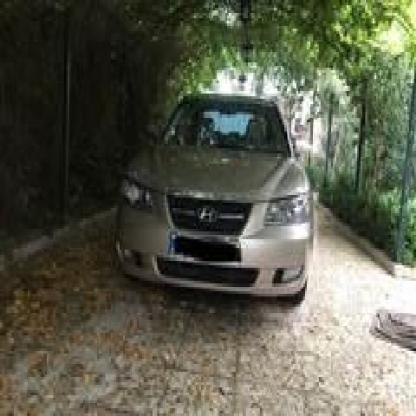Car: (112, 78, 314, 317)
